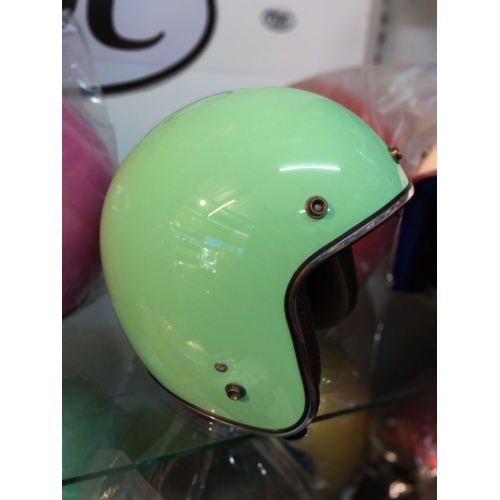helmet: (99, 88, 415, 436)
